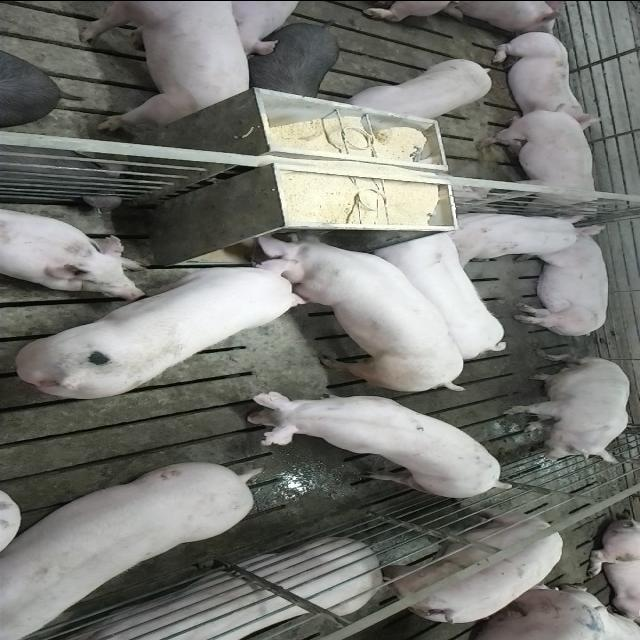Feeding: (14, 250, 308, 400), (245, 223, 467, 389)
Lateral_lying: (512, 222, 612, 338)
Sitting: (502, 354, 632, 464)
Standing: (0, 458, 258, 634), (238, 394, 510, 502), (74, 2, 255, 132), (376, 509, 564, 629), (374, 228, 512, 359), (474, 106, 608, 219), (344, 55, 498, 124), (242, 21, 342, 98)
Sternal_lying: (42, 539, 378, 640), (0, 204, 146, 295), (485, 28, 605, 122), (444, 206, 593, 262)
